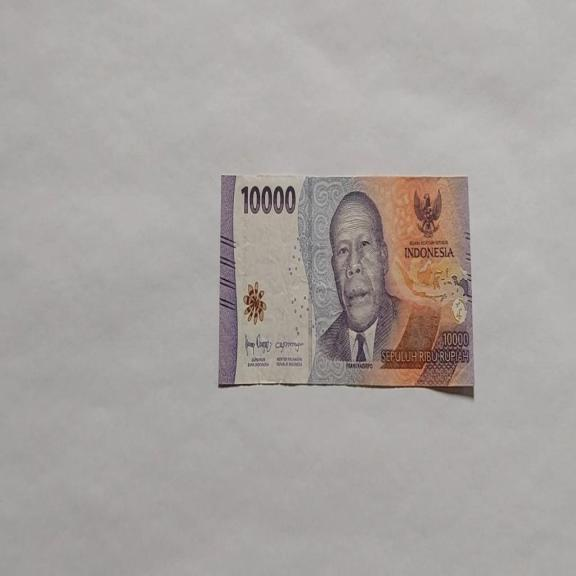Kertas: (218, 171, 474, 393), (240, 182, 296, 216)
